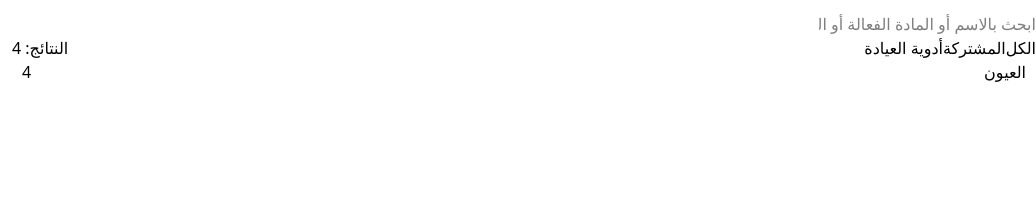
Test: drug tree: structure and accessible names @area:catalog › the drugs without a subcategory are under «بدون تصنيف فرعي», last of their category @CAT-107
Step 1. Click the list item "العيون 4" → (1005, 72), box [12,60,1035,84]
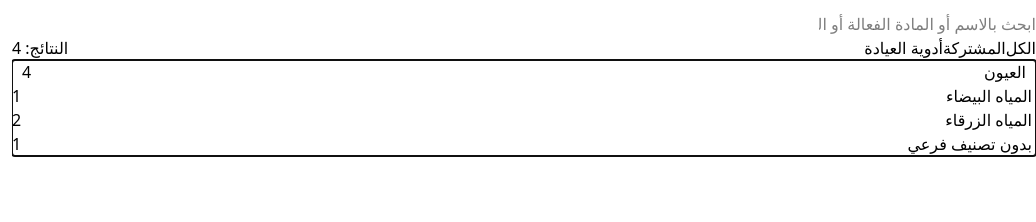
Step 2. Click the list item with aria-label "بدون تصنيف فرعي، 1" → (970, 144), box [12,132,1035,156]
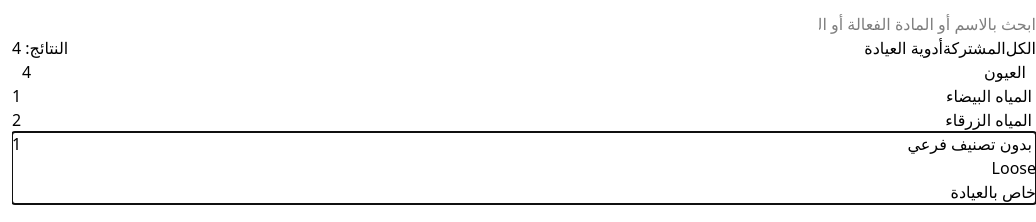
Now the list item with aria-label "بدون تصنيف فرعي، 1" is expanded, box [12,132,1035,204]
